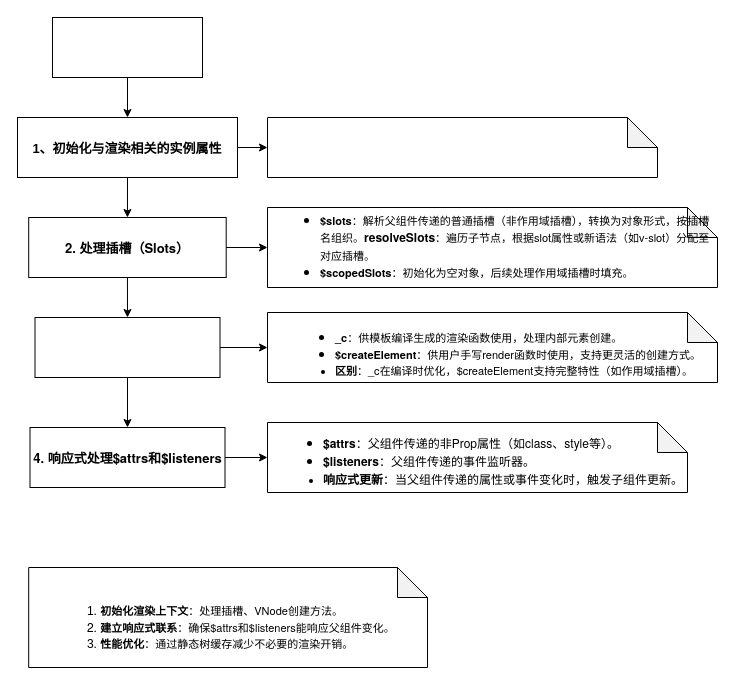
Some shapes in this 735 by 685 pixel diagram are drawn without their labels. The box of each missing label's shape, as (x1, y1, x2, y2) in pixels:
3. 创建 VNode 的工具方法: (34, 316, 220, 378)
_vnode ：保存当前组件渲染生成的虚拟DOM（VNode）。 _staticTrees ：缓存静态子树，优化重复渲染性能。: (266, 116, 658, 178)
initRender: (52, 16, 202, 78)
